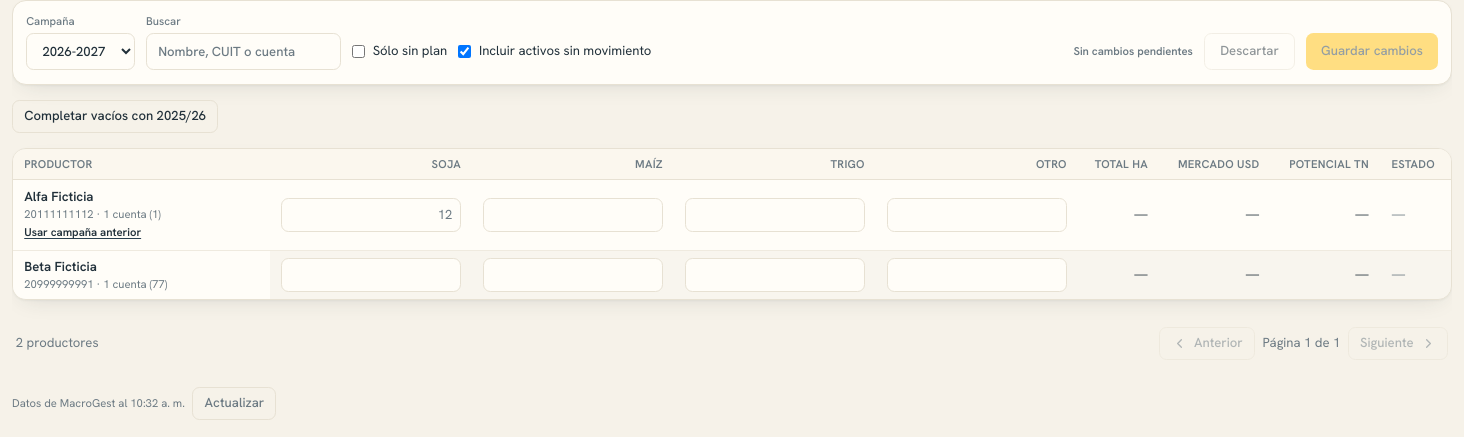
Test case: plan de siembra › guardar vive en los filtros y se habilita recien con cambios
Expected: the text "Sin cambios pendientes" is shown, [1074, 44, 1193, 59]
Expected: the button "Guardar cambios" is disabled, [1306, 33, 1438, 70]
Type "25" into the field named "Hectáreas de soja de Alfa Ficticia".
click(371, 215); type("25")  # box [281, 198, 461, 232]
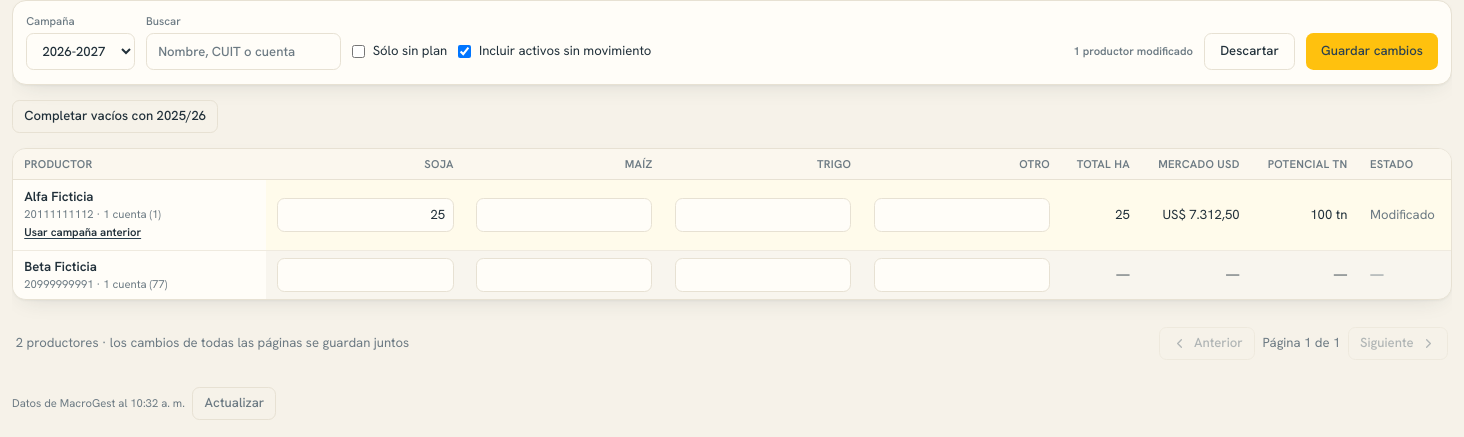
Result: the text "1 productor modificado" is shown at [1074, 44, 1193, 59]
Result: the button "Guardar cambios" is enabled at [1306, 33, 1438, 70]
Result: the button "Descartar" is enabled
Click the button "Descartar".
click(1250, 52)  # box [1204, 33, 1295, 70]
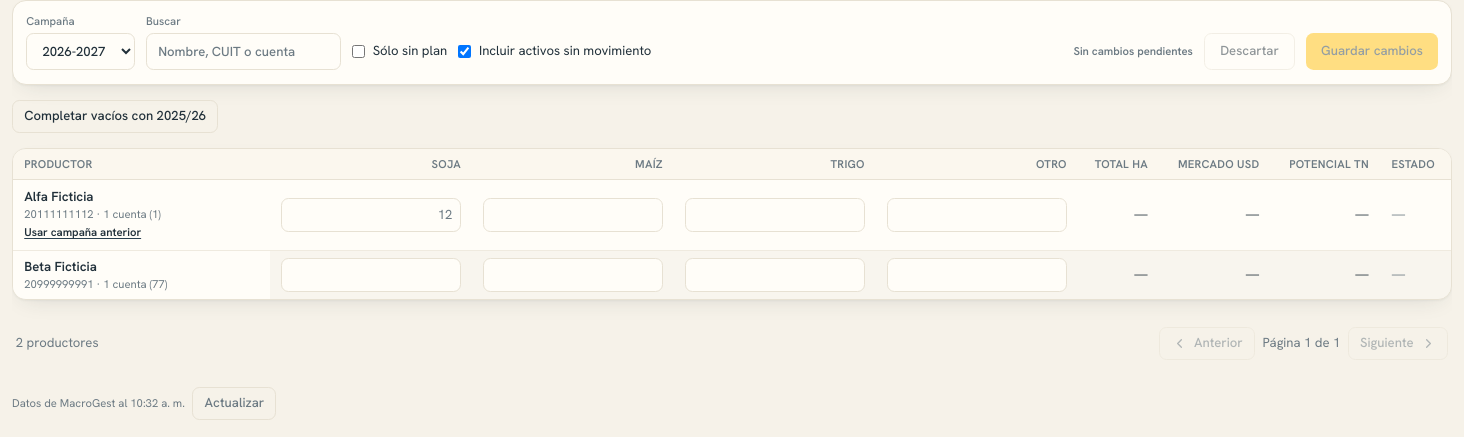
Result: the text "Sin cambios pendientes" is shown at [1074, 44, 1193, 59]
Result: the button "Guardar cambios" is disabled at [1306, 33, 1438, 70]
